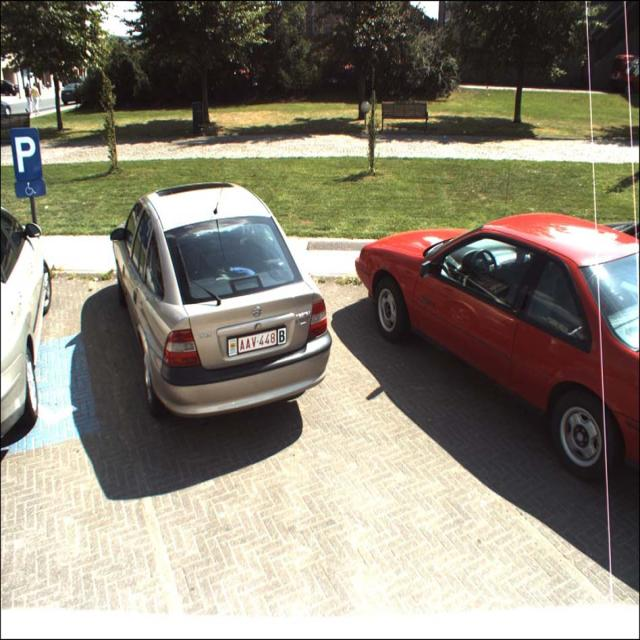park: (9, 127, 44, 181)
